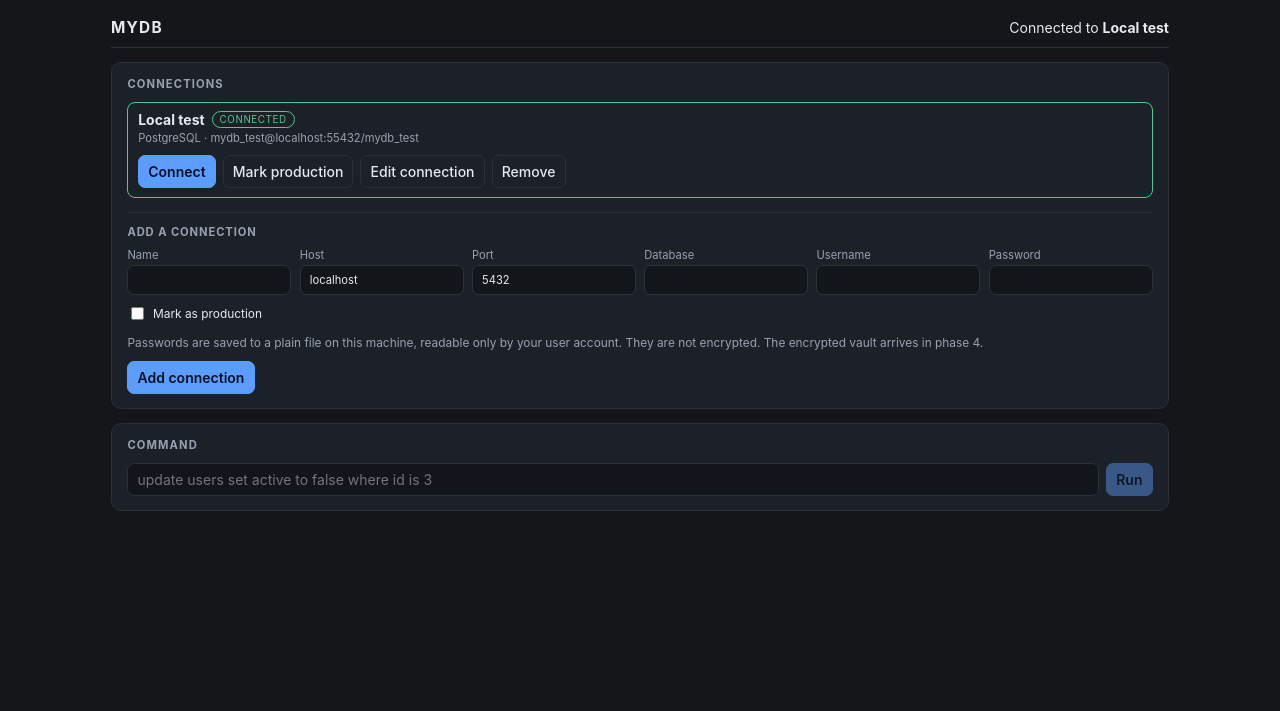
Test: the confirmation loop › a read shows its result with no confirmation step
The image size is (1280, 711).
Expected: the text "Connected to Local test" is shown, left=1009, top=18, right=1169, bottom=36
In the field named "Command": x=613, y=479 left=127, top=463, right=1099, bottom=496, type "show me all users"
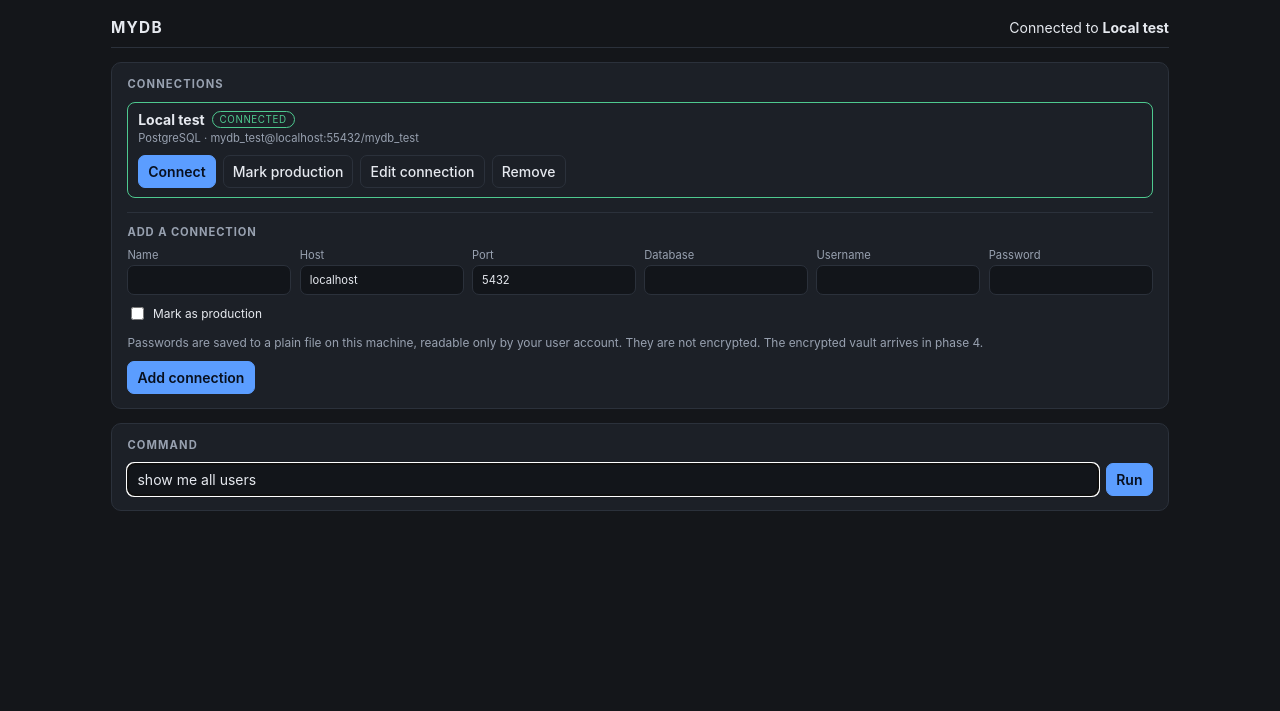
Click the button "Run": x=1129, y=479 left=1106, top=463, right=1153, bottom=496
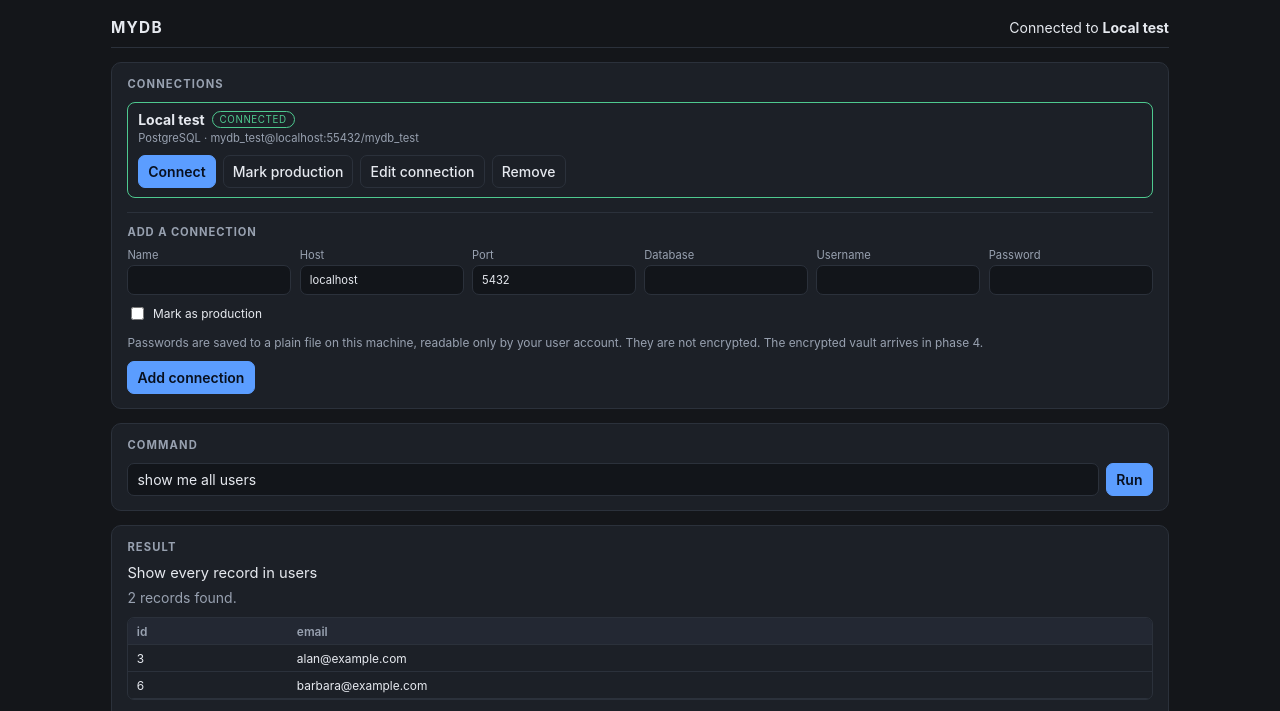
Now the text "2 records found." is shown, box left=127, top=589, right=237, bottom=606
